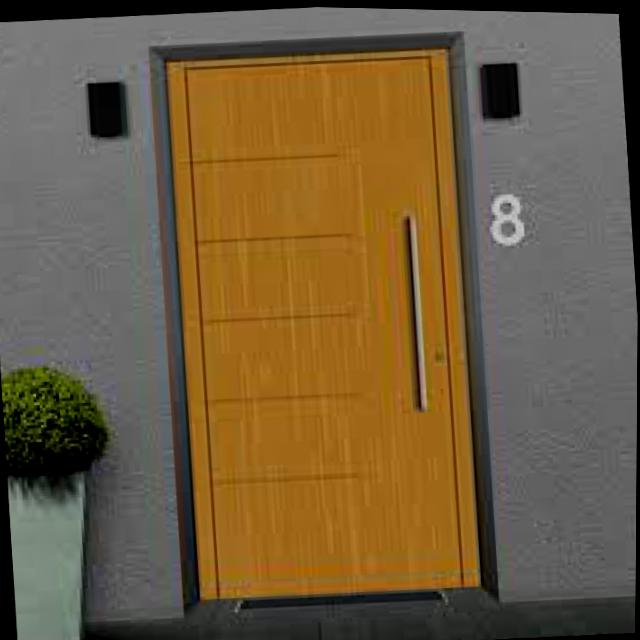close: (132, 5, 509, 632)
